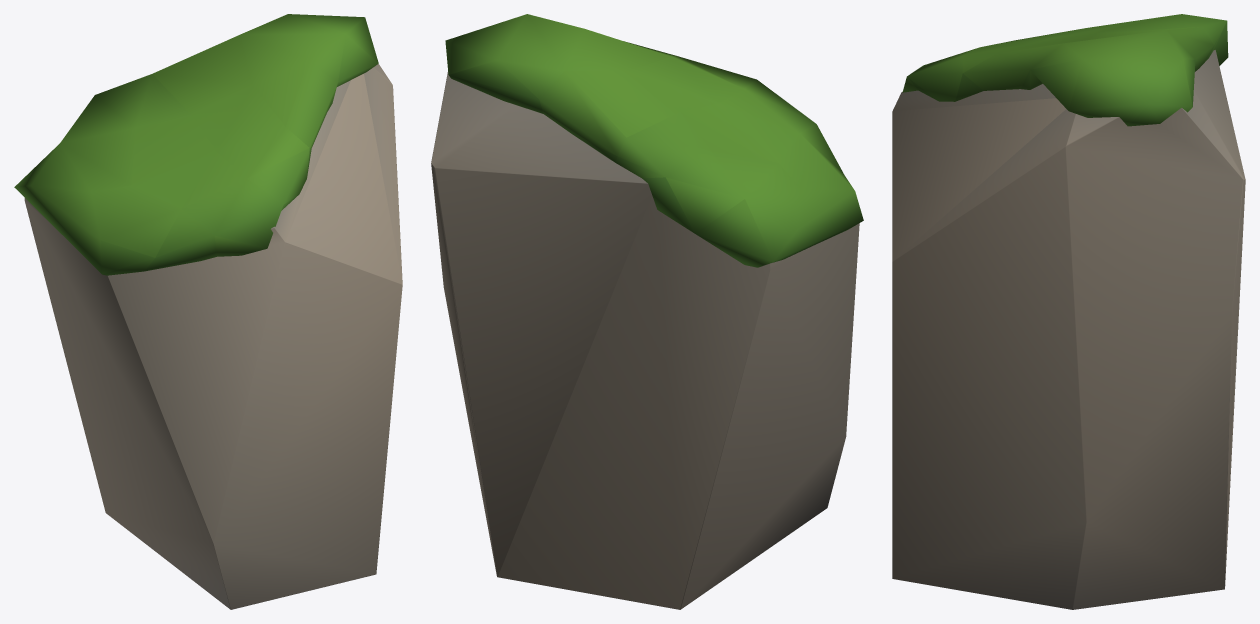
Rendered from glade_pebble_boulder_c_lod2.glb.
3 views of the same model, side by side, from view 1: azimuth 30°, elevation 25°; view 2: azimuth 150°, elevation 25°; view 3: azimuth 270°, elevation 25° (orthographic). The views are drawn at different scales.
Visible parts, largest first — view 1: glade_pebble_boulder_c.001, moss.001; view 2: glade_pebble_boulder_c.001, moss.001; view 3: glade_pebble_boulder_c.001, moss.001.
Part boxes in pixels (x1,y1,x2,y2): glade_pebble_boulder_c.001: (24, 64, 402, 609); moss.001: (14, 14, 378, 275); glade_pebble_boulder_c.001: (431, 72, 859, 609); moss.001: (445, 14, 863, 267); glade_pebble_boulder_c.001: (892, 50, 1245, 609); moss.001: (902, 14, 1228, 126).
Bounding box in the file's own units: 5.05 × 6.86 × 4.
